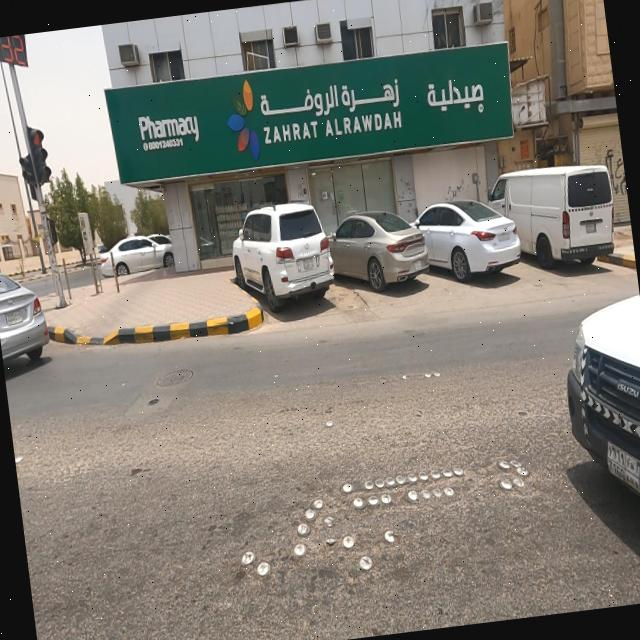Graffiti: (605, 145, 628, 204), (442, 178, 470, 203)
